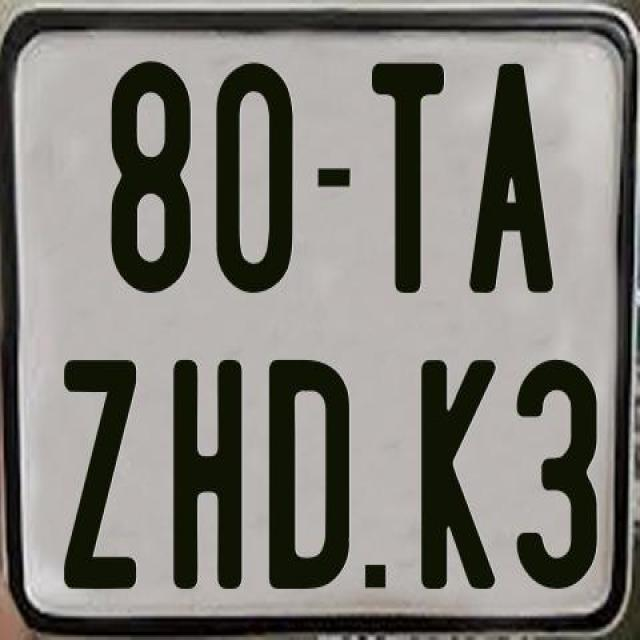0: (214, 58, 300, 292)
3: (512, 355, 599, 587)
8: (110, 56, 196, 296)
A: (465, 64, 555, 298)
D: (268, 360, 354, 595)
H: (170, 357, 246, 587)
K: (418, 361, 498, 594)
T: (372, 59, 444, 293)
Z: (62, 358, 134, 596)
